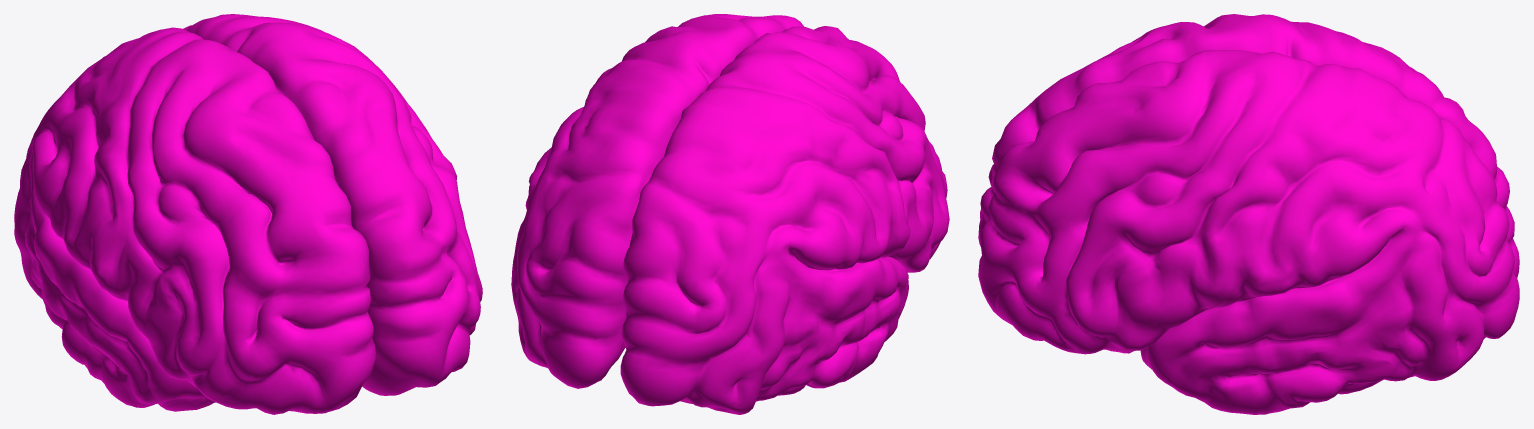
The model's file is brain9.glb.
3 views of the same model, side by side, from view 1: azimuth 30°, elevation 25°; view 2: azimuth 150°, elevation 25°; view 3: azimuth 270°, elevation 25° (orthographic). The views are drawn at different scales.
Parts seen in each view (by area): view 1: V1_1:jianmian_03:Group1; view 2: V1_1:jianmian_03:Group1; view 3: V1_1:jianmian_03:Group1.
Boxes of the visible parts, left/top/right/bottom form: V1_1:jianmian_03:Group1: left=14, top=14, right=482, bottom=414; V1_1:jianmian_03:Group1: left=511, top=14, right=949, bottom=414; V1_1:jianmian_03:Group1: left=978, top=14, right=1519, bottom=414.
Size of the model in its own units: 1.62 by 1.49 by 2.29.
